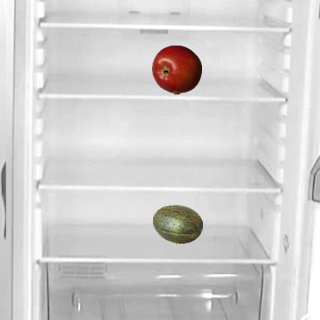Apple Braeburn: (151, 44, 201, 94)
Melon Piel de Sapo: (152, 199, 202, 249)
